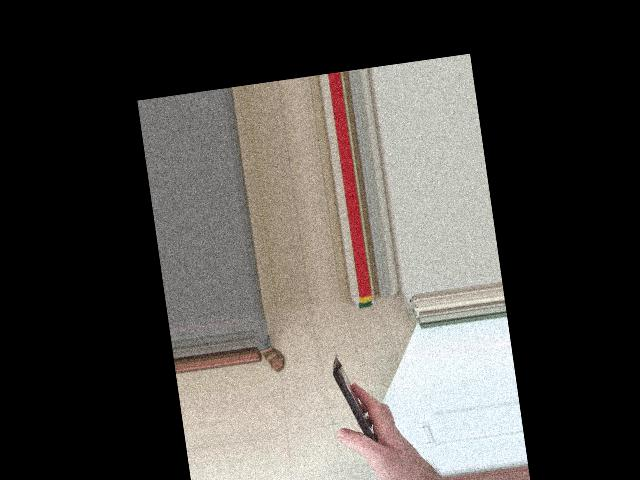chocolate: (319, 346, 396, 462)
